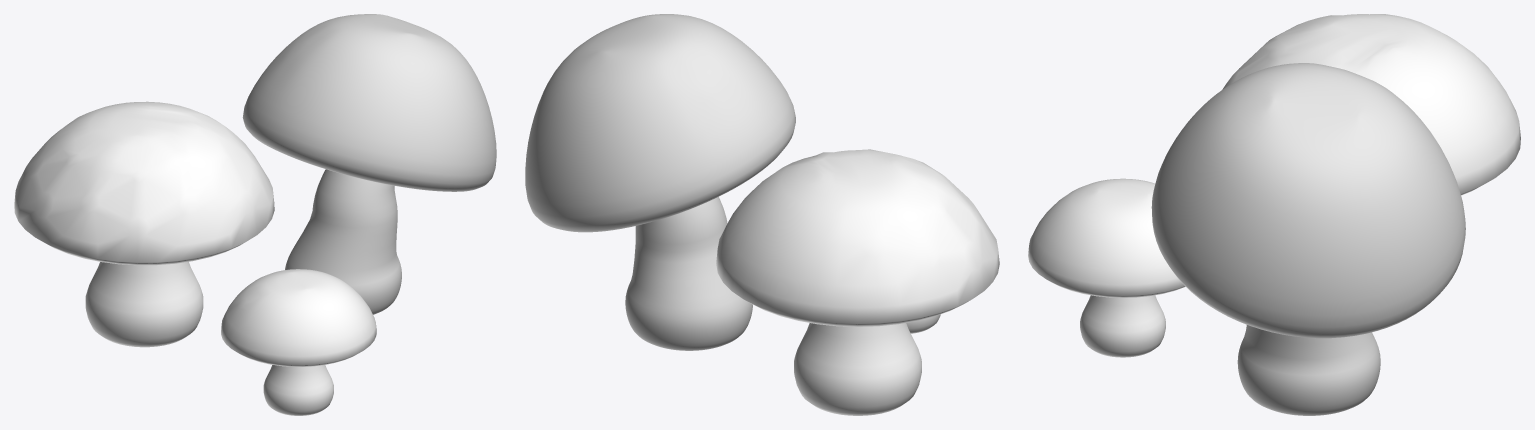
File: M_Mushies.fbx
3 renders of one model, left to right at view 1: azimuth 30°, elevation 25°; view 2: azimuth 150°, elevation 25°; view 3: azimuth 270°, elevation 25°, orthographic. The views are drawn at different scales.
Parts seen in each view (by area): view 1: M_tallbasicmush, M_basicmush, M_SpottyMush; view 2: M_tallbasicmush, M_basicmush; view 3: M_tallbasicmush, M_basicmush, M_SpottyMush.
Part boxes in pixels (x1=…): M_tallbasicmush: x1=242, y1=14, x2=496, y2=314; M_basicmush: x1=14, y1=101, x2=274, y2=347; M_SpottyMush: x1=221, y1=269, x2=376, y2=415; M_tallbasicmush: x1=525, y1=14, x2=795, y2=350; M_basicmush: x1=716, y1=149, x2=999, y2=415; M_tallbasicmush: x1=1151, y1=63, x2=1465, y2=415; M_basicmush: x1=1222, y1=14, x2=1520, y2=195; M_SpottyMush: x1=1028, y1=178, x2=1185, y2=357.
Bounding box in the file's own units: 4.29 × 2.8 × 3.55.
